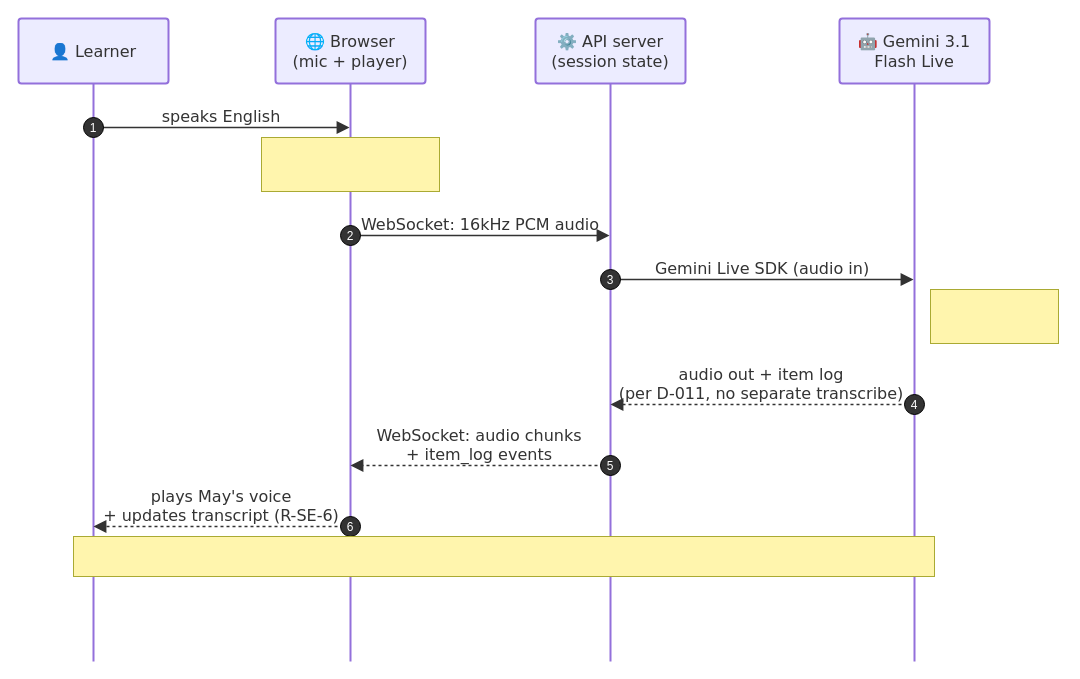
The diagram is 1080 pixels wide and 679 high, and some of its shapes have lost their labels. Each missing label, with the centre of its shape:
client VAD detects end-of-speech (R-TE-3): (x=350, y=164)
STT + LLM + TTS in one model: (x=994, y=316)
Total end-to-end < 1s (R-TE-1): (x=503, y=556)
